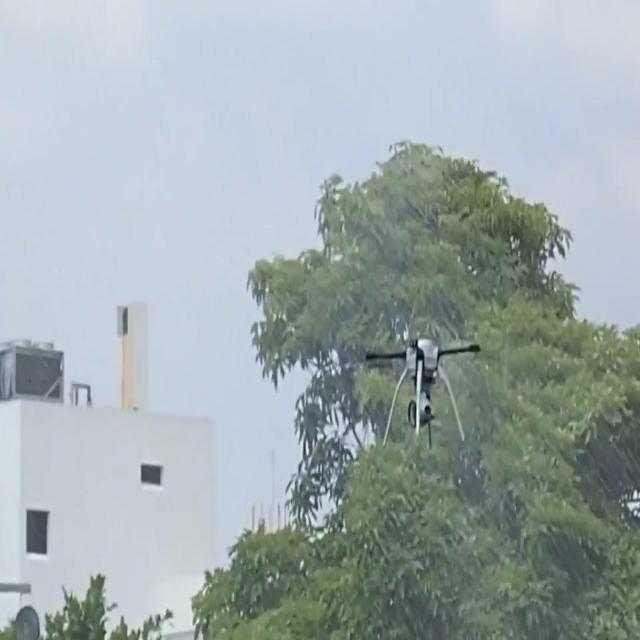drone: (364, 336, 484, 446)
